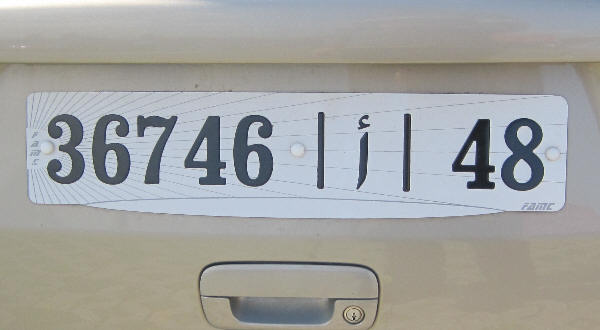number_plate: (28, 94, 568, 208)
